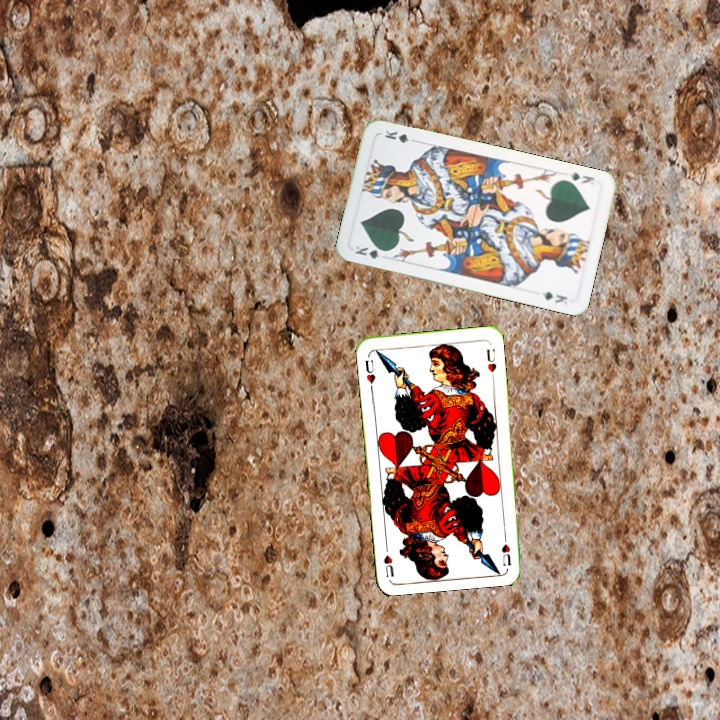GK: (351, 242, 391, 261), (565, 168, 596, 187)
HU: (498, 528, 514, 569), (361, 356, 378, 392)
